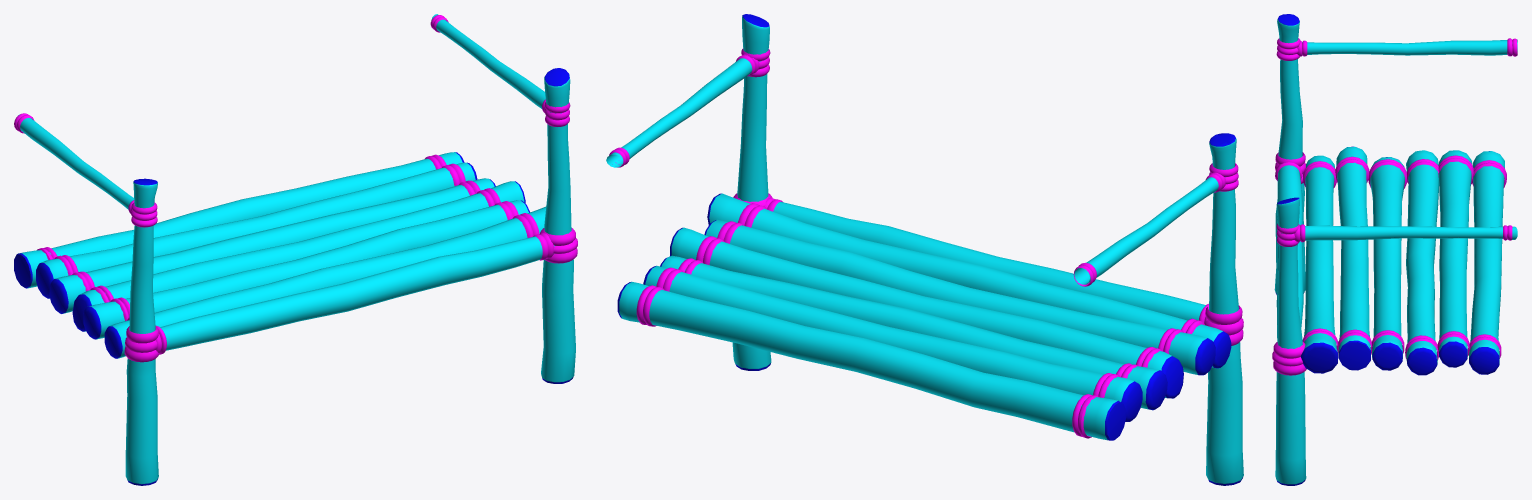
Rendered from SM_Pont_v2_02.FBX.
3 views of the same model, side by side, from view 1: azimuth 30°, elevation 25°; view 2: azimuth 150°, elevation 25°; view 3: azimuth 270°, elevation 25° (orthographic). The views are drawn at different scales.
Parts seen in each view (by area): view 1: Pont_1; view 2: Pont_1; view 3: Pont_1.
Part boxes in pixels (box(x1,y1,x2,y2)): Pont_1: box(14, 14, 577, 485); Pont_1: box(606, 14, 1243, 485); Pont_1: box(1272, 14, 1517, 485).
Size of the model in its own units: 588 by 381 by 299.
